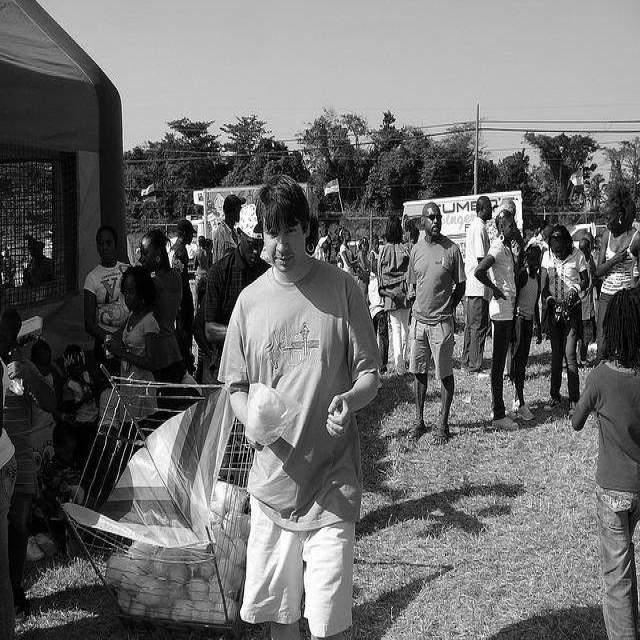vehicle: (572, 230, 588, 241)
